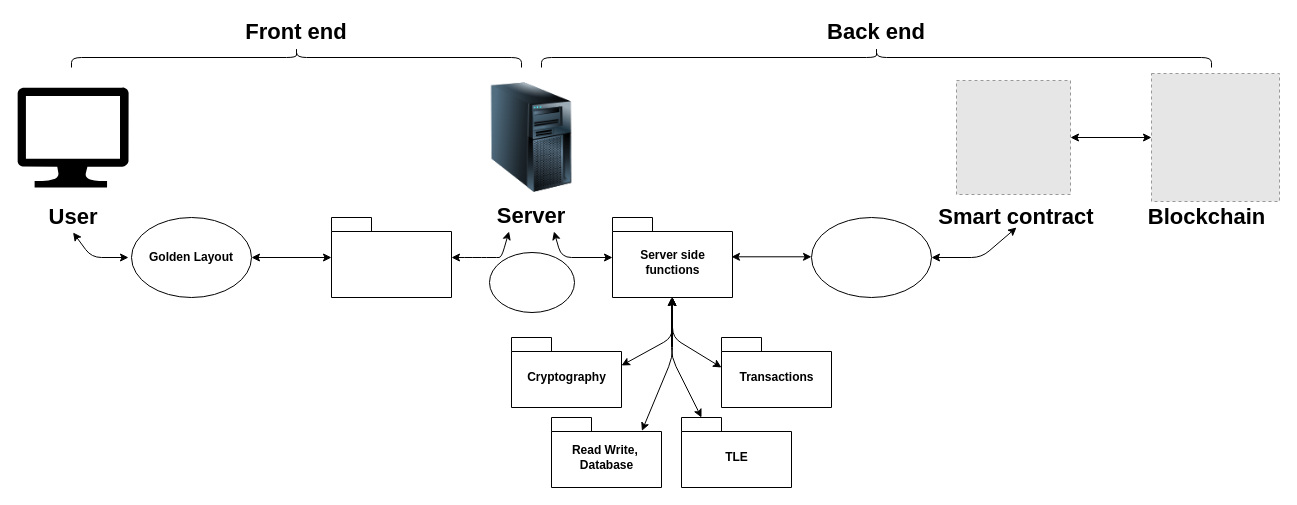
This 1297x505 diagram has some shape labels left out. Grey dashed boxes stand in for pictures. The centre of each missing label's shape, as x and y in pixels:
"Client side functions" goes at point (391, 257).
"Node.js Express" goes at point (531, 282).
"web3.js" goes at point (871, 257).
